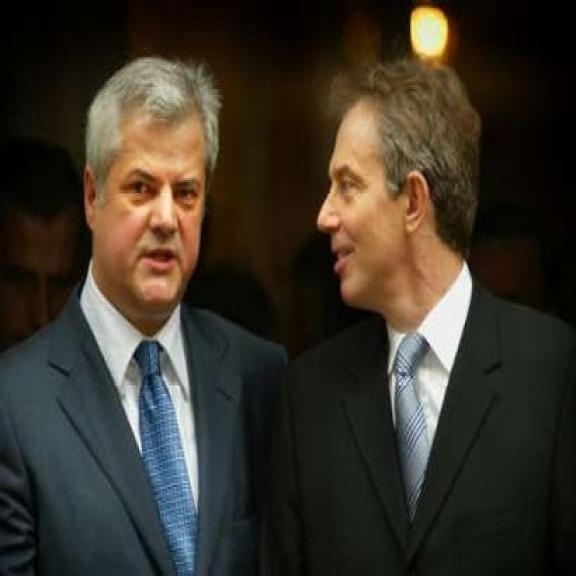face: (77, 110, 211, 313), (310, 102, 426, 309)
